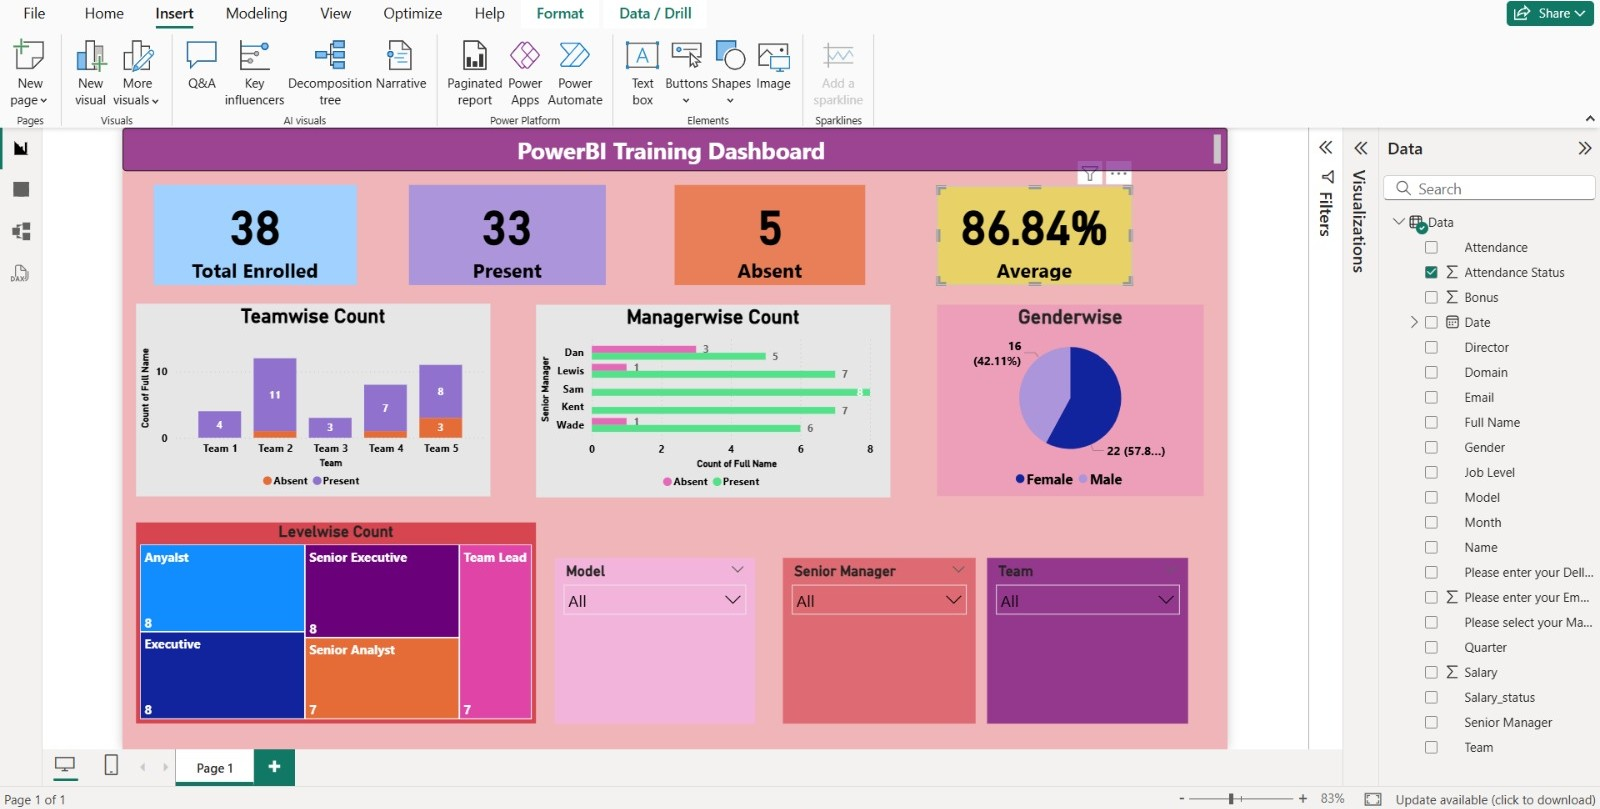

Layout of this report page (visuals, bound fields, positions):
{"tool":"powerbi","page":{"name":"Page 1","canvas":[1280,720],"ordinal":0},"visuals":[{"type":"card","fields":{"Values":["CountNonNull(Data.Full Name)"]},"box":[36.2,66.4,235.3,115.8],"z":0},{"type":"card","fields":{"Values":["CountNonNull(Data.Full Name)"]},"box":[331.8,66.4,228,115.8],"z":1000},{"type":"card","fields":{"Values":["CountNonNull(Data.Full Name)"]},"box":[639.4,66.4,220.8,115.8],"z":2000},{"type":"card","fields":{"Values":["Avg(Data.Attendance Status)"]},"box":[943.4,67.6,225.6,114.6],"z":3000},{"type":"columnChart","title":"Teamwise Count","fields":{"Category":["Data.Team"],"Y":["CountNonNull(Data.Full Name)"],"Series":["Data.Attendance"]},"box":[15.7,203.9,410.2,231.6],"z":4000},{"type":"clusteredBarChart","title":"Managerwise Count","fields":{"Category":["Data.Senior Manager"],"Y":["CountNonNull(Data.Full Name)"],"Series":["Data.Attendance"]},"box":[479,205.1,410.2,230.4],"z":5000},{"type":"pieChart","title":"Genderwise","fields":{"Category":["Data.Gender"],"Y":["CountNonNull(Data.Full Name)"]},"box":[943.4,205.1,308.8,252.1],"z":6000},{"type":"treemap","title":"Levelwise Count","fields":{"Group":["Data.Job Level"],"Values":["CountNonNull(Data.Full Name)"]},"box":[15.7,457.2,463.3,232.8],"z":7000},{"type":"slicer","fields":{"Values":["Data.Model"]},"box":[500.7,498.3,231.6,191.8],"z":8000},{"type":"slicer","fields":{"Values":["Data.Senior Manager"]},"box":[764.9,498.3,223.2,191.8],"z":9000},{"type":"slicer","fields":{"Values":["Data.Team"]},"box":[1001.3,498.3,232.8,191.8],"z":10000},{"type":"textbox","box":[0,0,1280,50.7],"z":11000}]}

Visuals, with their boxes on the page's 1280x720 design canvas (x1, y1, x2, y2). These are canvas units, not pixel positions in the 1600x809 screenshot, which may show the page scaled, cropped or inside an application window:
card - CountNonNull(Data.Full Name): 36/66/272/182
card - CountNonNull(Data.Full Name): 332/66/560/182
card - CountNonNull(Data.Full Name): 639/66/860/182
card - Avg(Data.Attendance Status): 943/68/1169/182
"Teamwise Count" columnChart: 16/204/426/436
"Managerwise Count" clusteredBarChart: 479/205/889/436
"Genderwise" pieChart: 943/205/1252/457
"Levelwise Count" treemap: 16/457/479/690
slicer - Data.Model: 501/498/732/690
slicer - Data.Senior Manager: 765/498/988/690
slicer - Data.Team: 1001/498/1234/690
textbox: 0/0/1280/51
